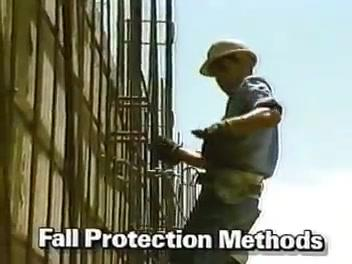no -hi-vis jacket: (211, 87, 285, 177)
